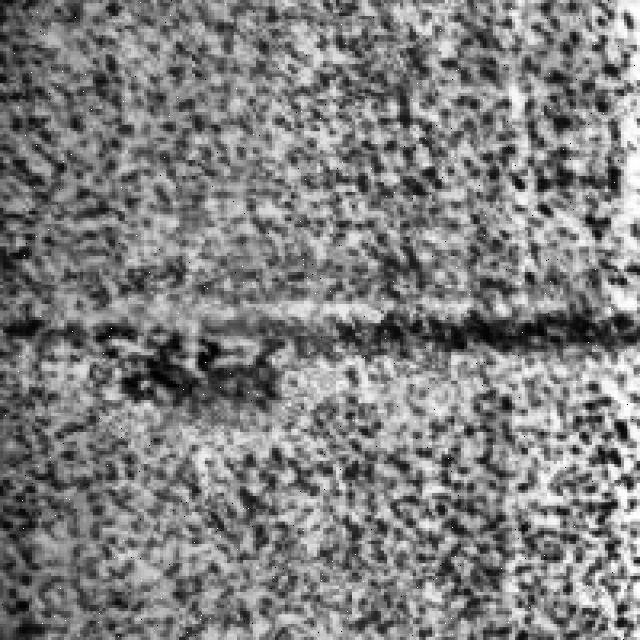Rolled_in_Scale: (9, 3, 636, 627)
